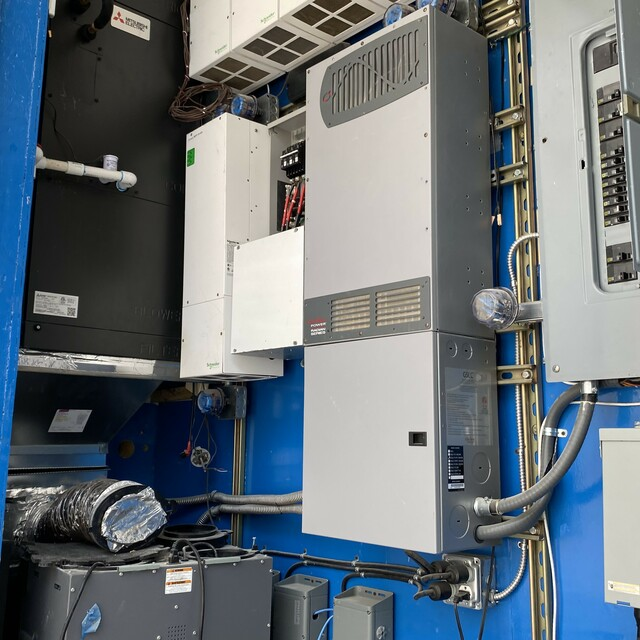inverter: (300, 8, 514, 567)
